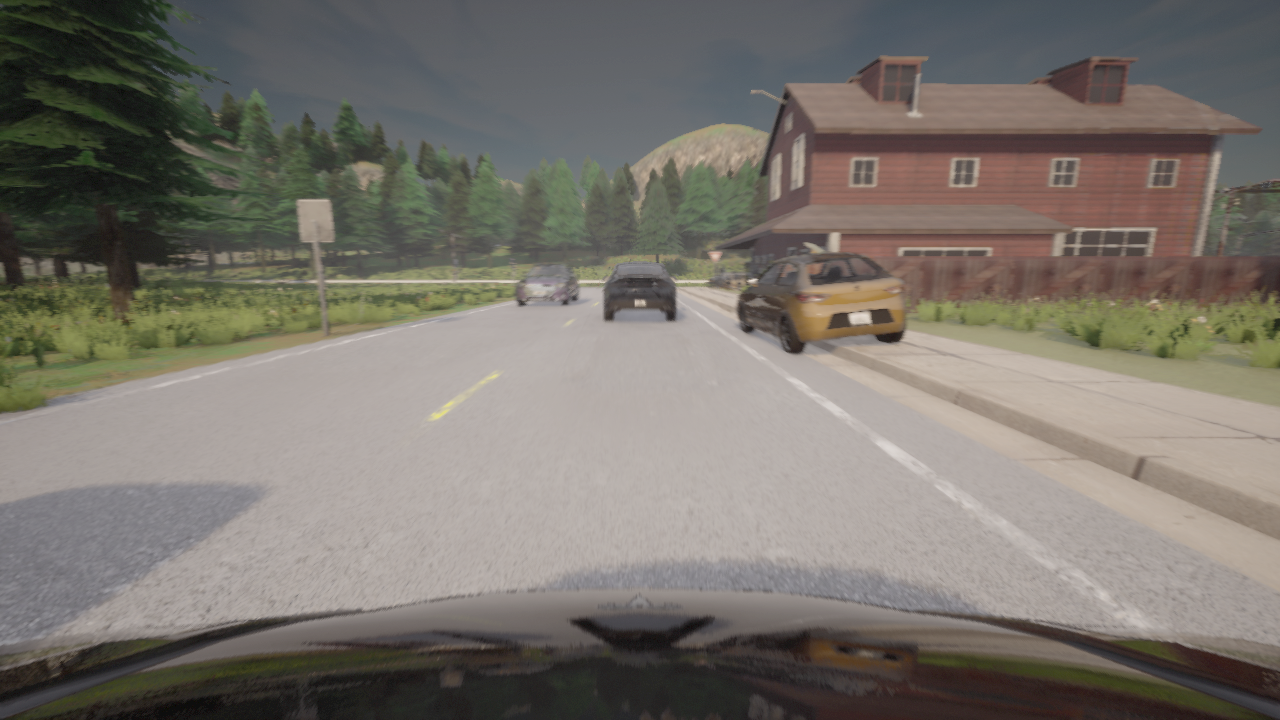cyclist: (0, 588, 1279, 719), (735, 252, 906, 353), (602, 261, 676, 320), (516, 263, 578, 305), (709, 275, 741, 286)
pedestrian: (720, 265, 724, 286)
